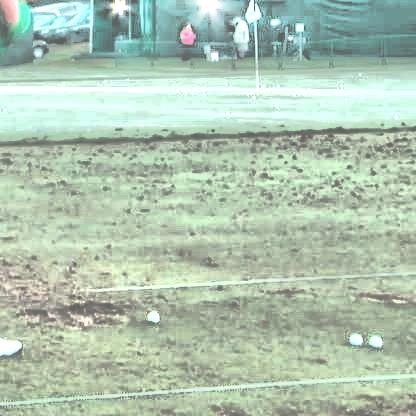golfball: (143, 307, 156, 320)
